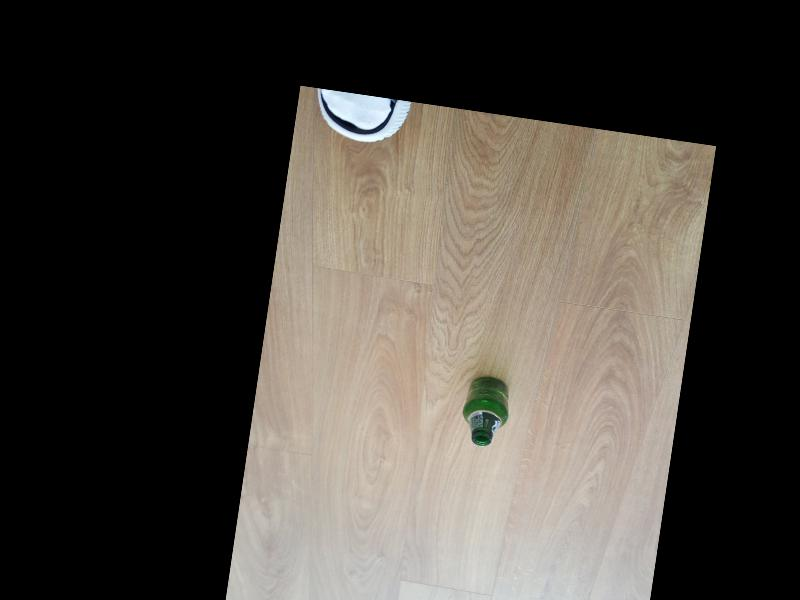Beer: (455, 372, 512, 448)
